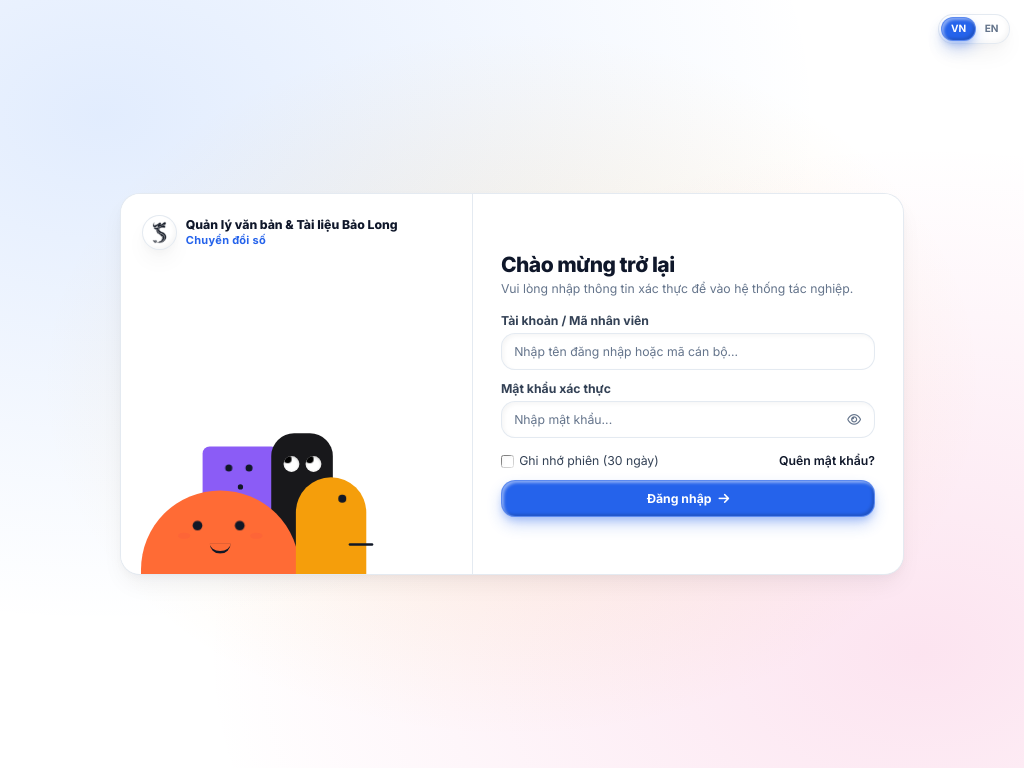
LoginPage i18n and Language Switching › displays authentication error in active language and translates dynamically
This screenshot has width=1024, height=768.
Chuyển sang tiếng Anh
Click the button with aria-label "switch to english": (992, 29) [976, 18, 1007, 40]
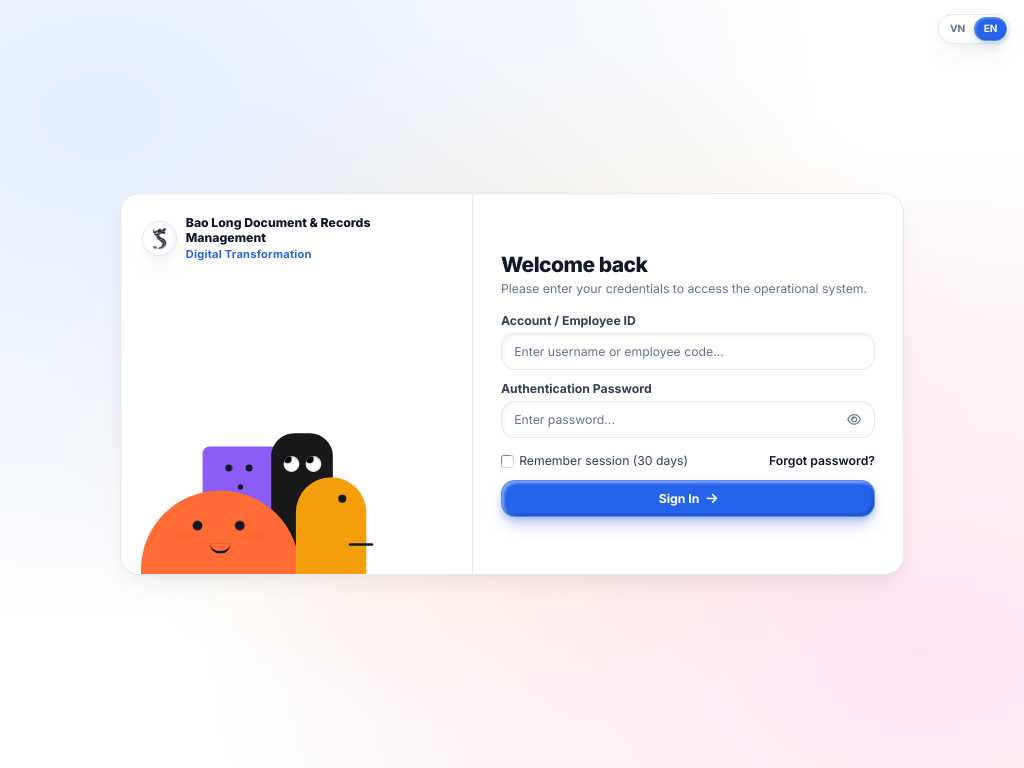
In the field with placeholder "Enter username or employee code...": (688, 351) [501, 333, 875, 370], type "admind"
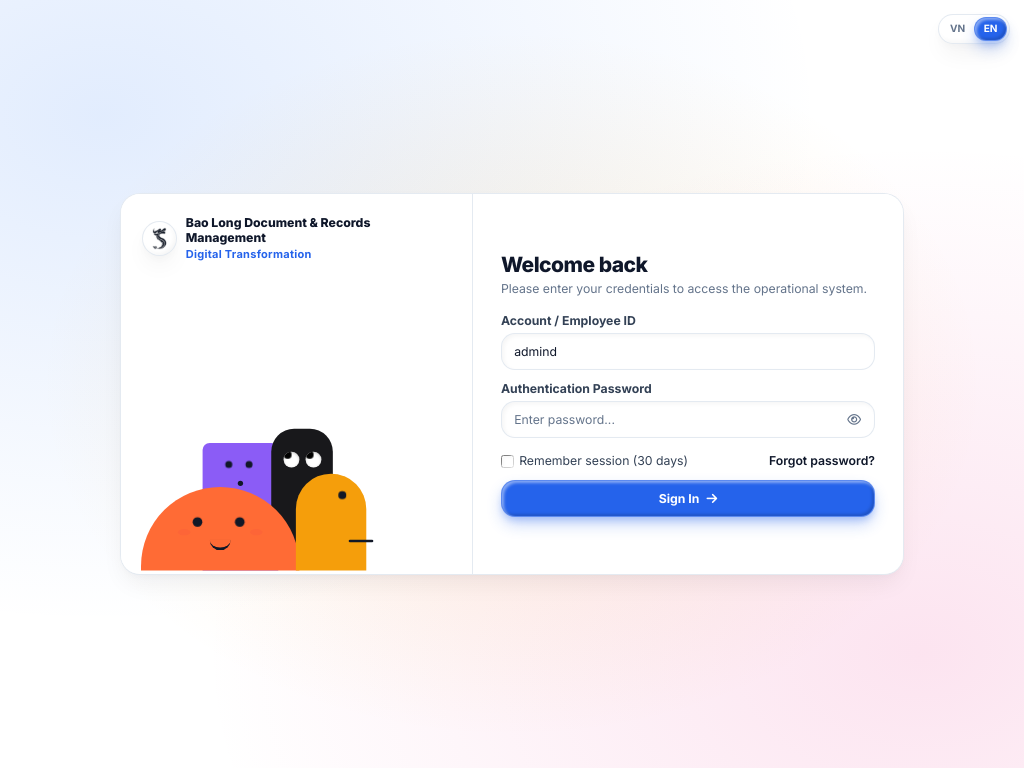
In the password field with placeholder "Enter password...": (688, 420) [501, 401, 875, 438], type "wrongpass"
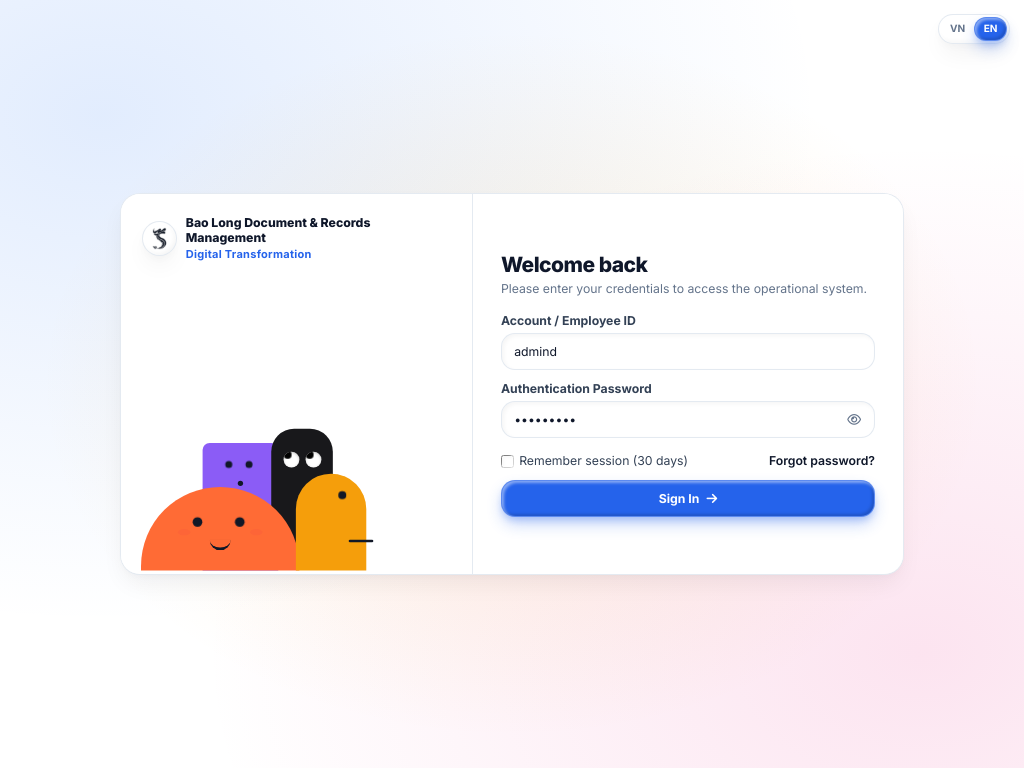
Click the button "Sign In": (688, 499) [501, 480, 875, 517]
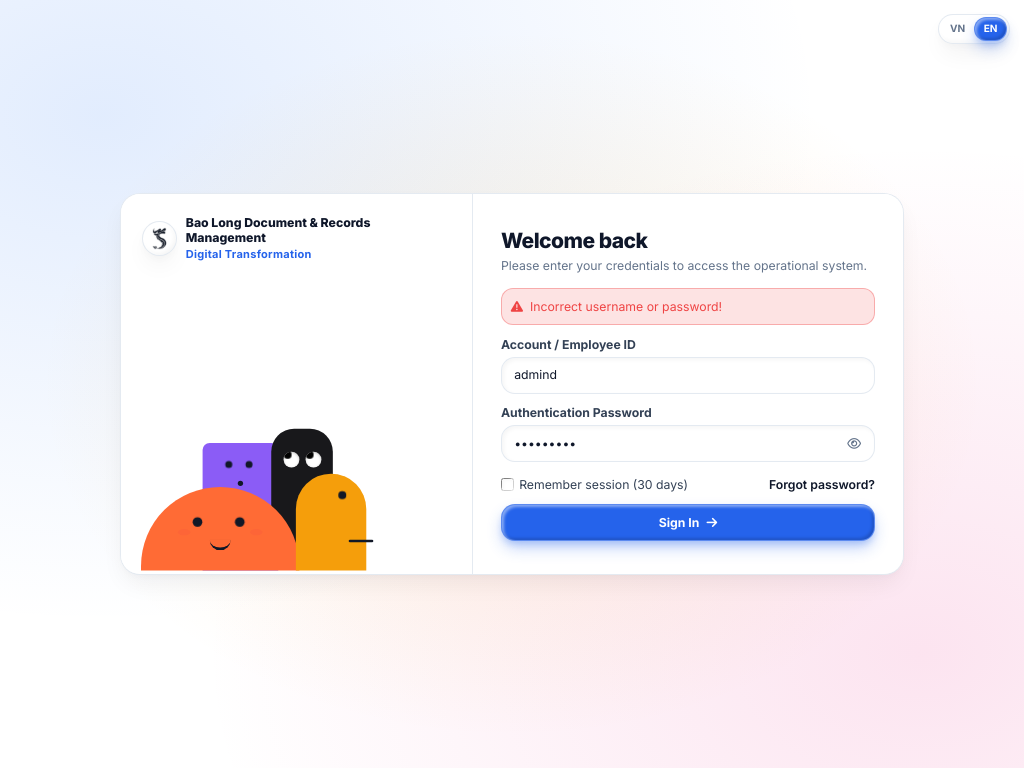
Expected: the text "Incorrect username or password!" is shown, [530, 298, 722, 315]
Khi chuyển lại tiếng Việt
Click the button with aria-label "chuyển sang tiếng việt": (958, 29) [941, 18, 974, 40]
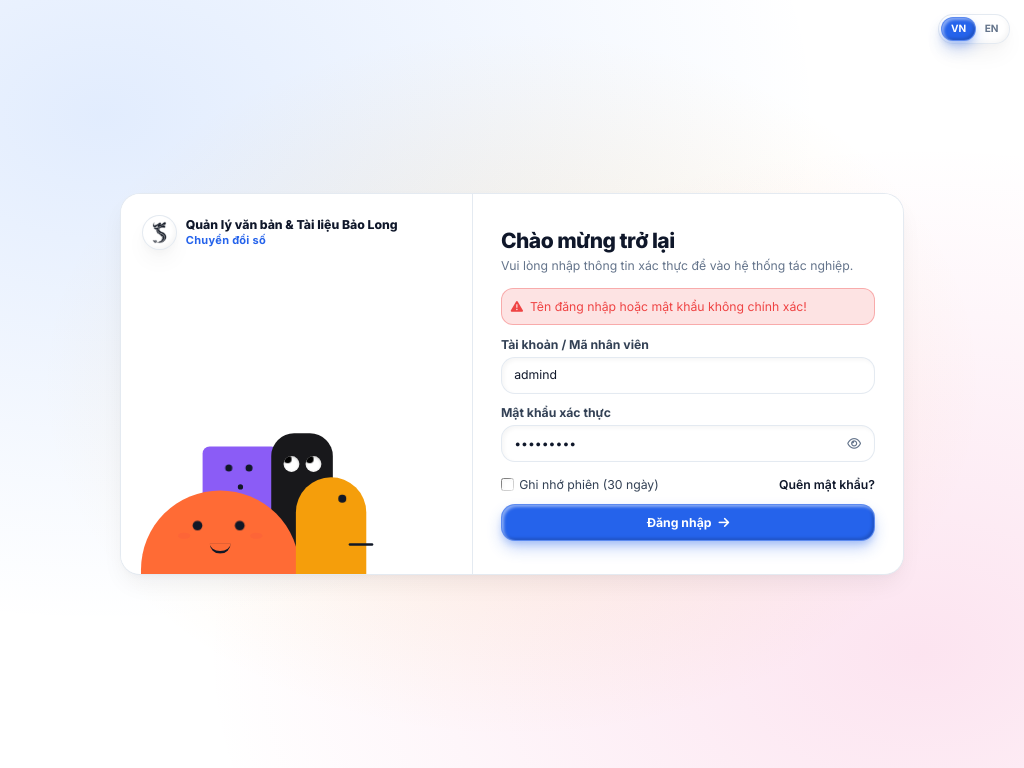
Expected: the text "Tên đăng nhập hoặc mật khẩu không chính xác!" is shown, [530, 298, 807, 315]
